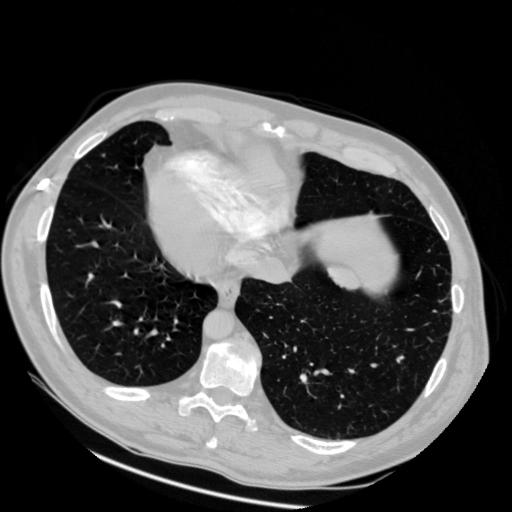nodule: (332, 263, 361, 292)
